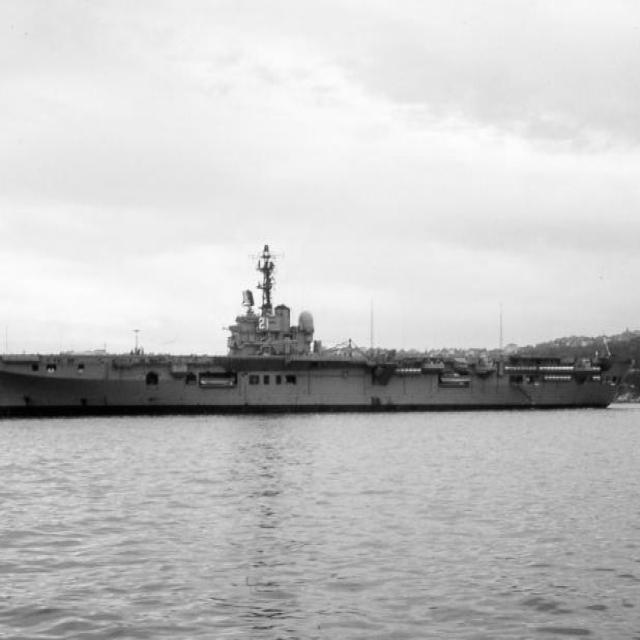Portanaves: (1, 238, 621, 427)
